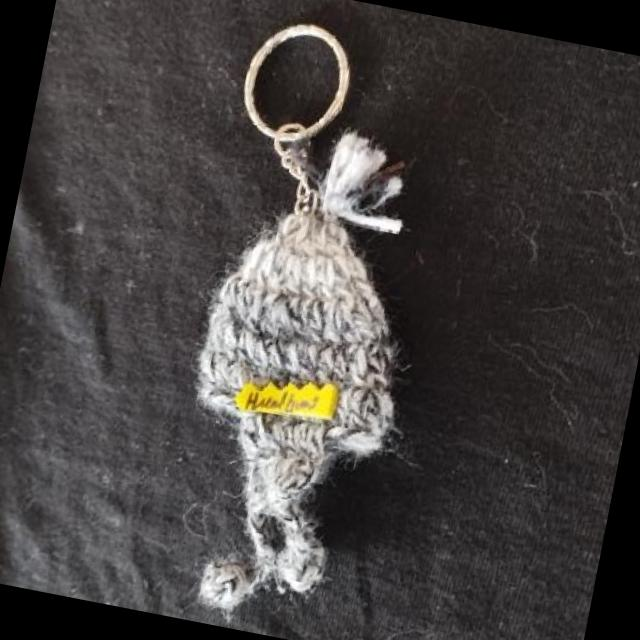Llavero: (148, 106, 451, 640)
